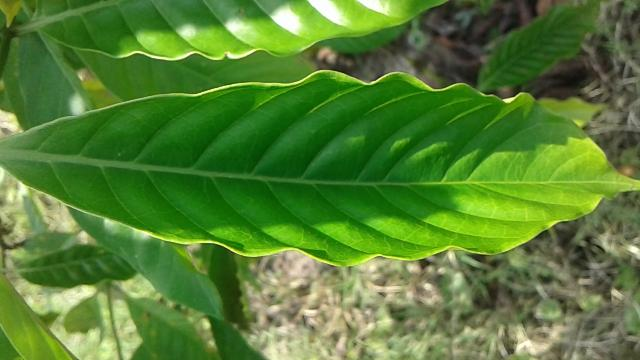healthy: (8, 76, 632, 264)
